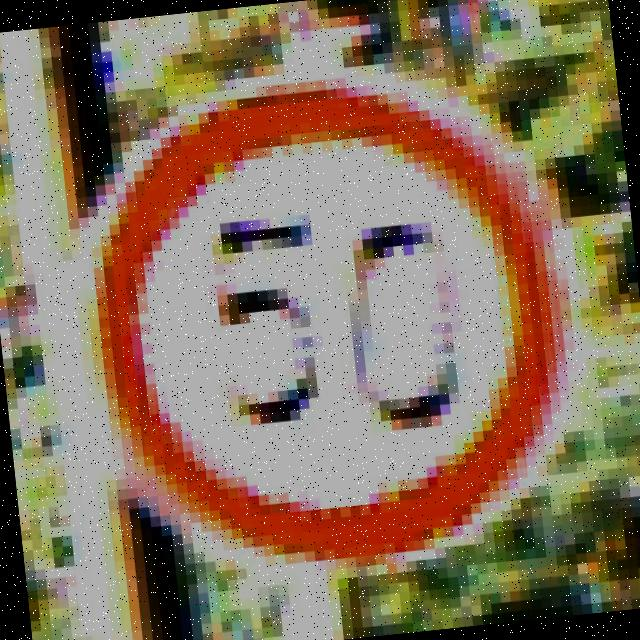Ograniczenie predkosci do 50: (68, 54, 592, 596)
